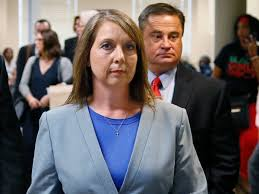white_female: (73, 21, 142, 102)
